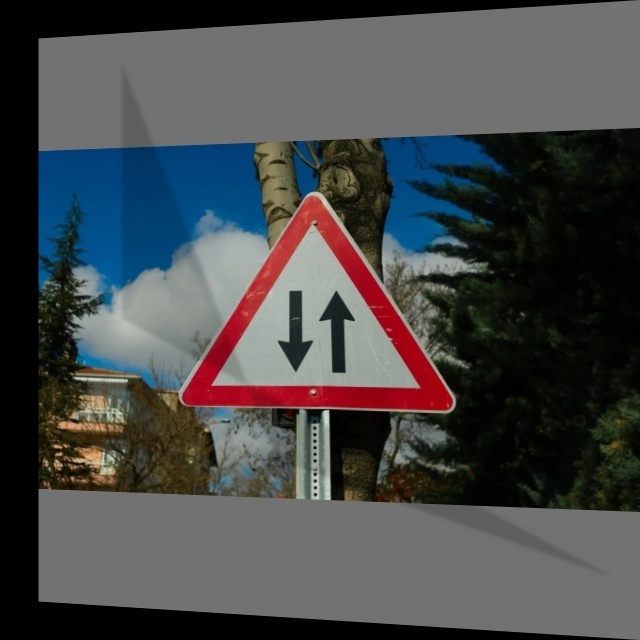Mandatory_Two_Way_Traffic: (180, 188, 456, 418)
